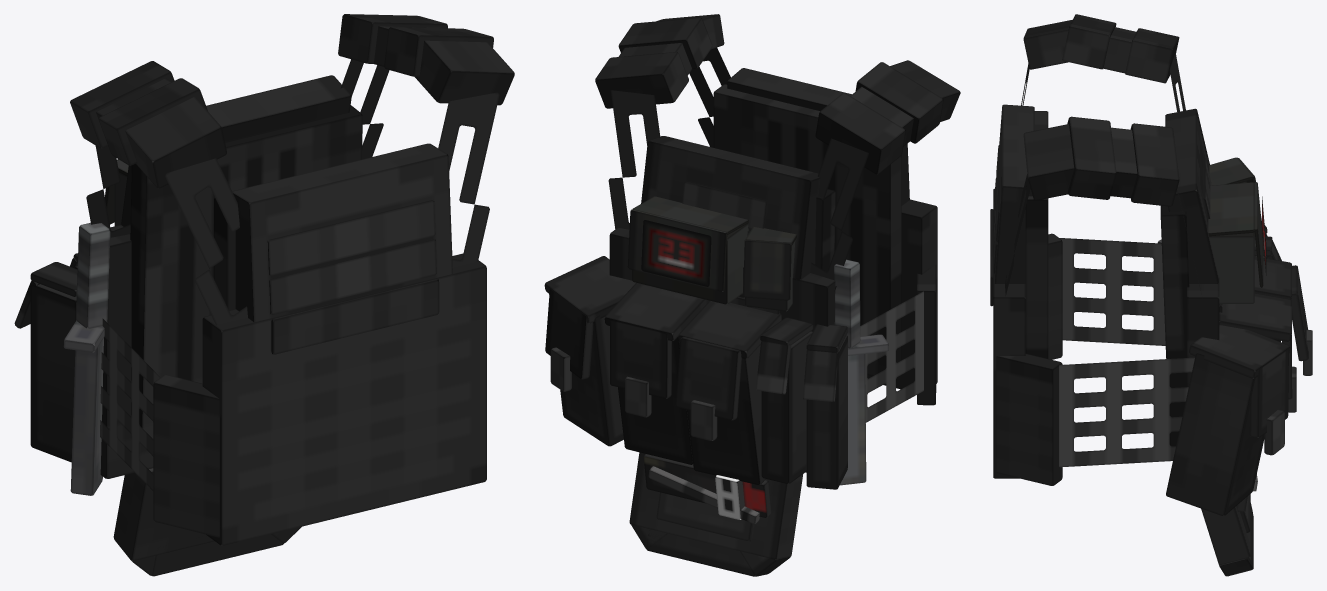
File: cqb_kit.obj
The picture shows the model from 3 angles, left to right: view 1: azimuth 30°, elevation 25°; view 2: azimuth 150°, elevation 25°; view 3: azimuth 270°, elevation 25°; orthographic projection. The views are drawn at different scales.
Visible parts, largest first — view 1: mesh; view 2: mesh; view 3: mesh.
Part boxes in pixels (<box>): mesh: <box>14,14,514,576</box>; mesh: <box>544,14,960,576</box>; mesh: <box>990,14,1312,576</box>.
Size of the model in its own units: 0.7153 by 1.02 by 0.625.
